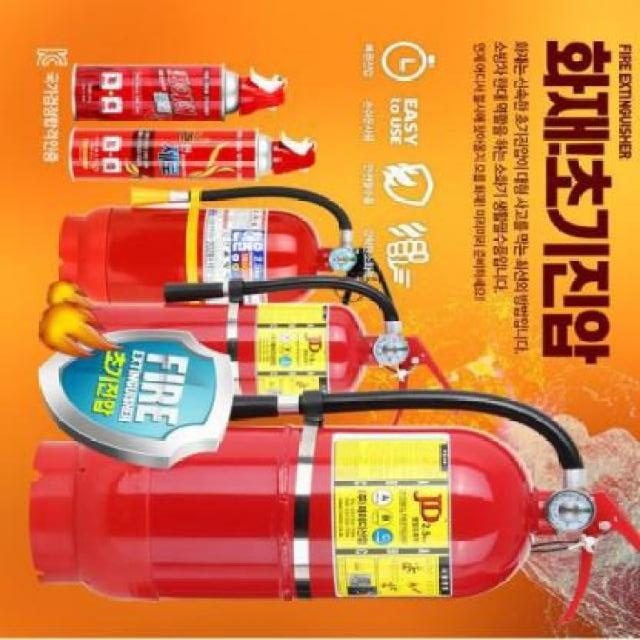fire extinguisher: (29, 389, 640, 626), (89, 276, 454, 395), (58, 186, 394, 305)
